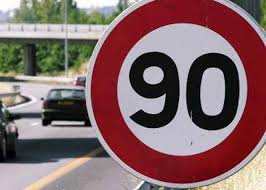Speed_limit_90km: (82, 1, 266, 188)
